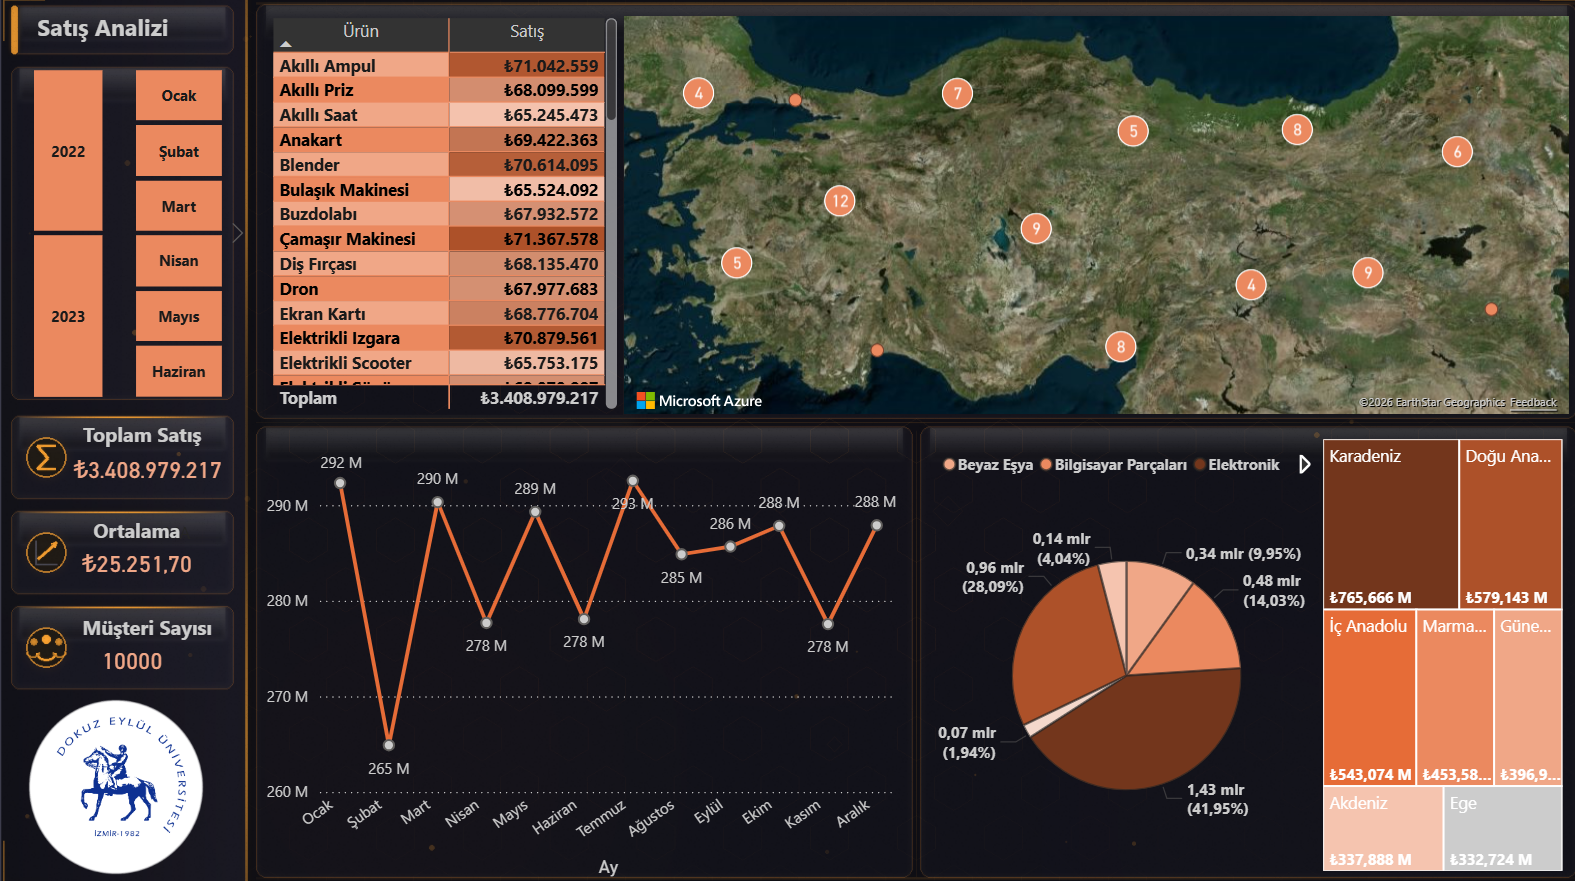

What the dashboard file says about the page in this screenshot:
{"tool":"powerbi","page":{"name":"1. sayfa","canvas":[1280,720],"ordinal":0},"visuals":[{"type":"slicer","fields":{"Values":["Satıs Datası.Tarih.Varyasyon.Tarih Hiyerarşisi.Yıl"]},"box":[7.8,59.3,95.3,266.5],"z":0},{"type":"slicer","fields":{"Values":["Satıs Datası.Tarih.Varyasyon.Tarih Hiyerarşisi.Ay"]},"box":[90.5,59.3,108.9,266.5],"z":1000},{"type":"card","fields":{"Values":["Sum(Satıs Datası.Satıs_tutarı)"]},"box":[36.4,360,169.1,50],"z":2000},{"type":"card","fields":{"Values":["Avg(Satıs Datası.Satıs_tutarı)"]},"box":[50.8,434.6,122.7,50.8],"z":3000},{"type":"card","fields":{"Values":["Count(Satıs Datası.Musteri_numarasi)"]},"box":[46.7,512.5,122.5,50.8],"z":4000},{"type":"tableEx","fields":{"Values":["Satıs Datası.urun","Sum(Satıs Datası.Satıs_tutarı)"]},"box":[216.4,14.6,288.2,325.4],"z":5000},{"type":"pieChart","fields":{"Y":["Sum(Satıs Datası.Satıs_tutarı)"],"Series":["Katagoriler.Kategori"]},"box":[756.4,360,307.3,351.8],"z":6000},{"type":"treemap","fields":{"Group":["Bölgeler.Bolge"],"Values":["Sum(Satıs Datası.Satıs_tutarı)"]},"box":[1063.6,353.6,202.7,358.2],"z":7000},{"type":"textbox","box":[50.9,339.8,130.8,39.5],"z":8000},{"type":"textbox","box":[72,420.2,92.4,29.2],"z":9000},{"type":"textbox","box":[71.9,416.5,97.3,35.8],"z":10000},{"type":"textbox","box":[63,495,126,35],"z":11000},{"type":"image","box":[20,564,150,150],"z":12000},{"type":"textbox","box":[26.8,8.9,161.8,45],"z":13000},{"type":"azureMap","fields":{"Category":["Bölgeler.ıl"]},"box":[504.6,12.7,761.8,326.4],"z":14000},{"type":"lineChart","fields":{"Y":["Sum(Satıs Datası.Satıs_tutarı)"],"Category":["Satıs Datası.Tarih.Varyasyon.Tarih Hiyerarşisi.Ay"]},"box":[216.4,360,508.2,351.8],"z":14001}]}

Visuals, with their boxes in screenshot pixels (x1, y1, x2, y2), scaled from the page's 1280x720 canvas onto the 1575x881 screenshot:
slicer - Satıs Datası.Tarih.Varyasyon.Tarih Hiyerarşisi.Yıl: crop(10, 73, 127, 399)
slicer - Satıs Datası.Tarih.Varyasyon.Tarih Hiyerarşisi.Ay: crop(111, 73, 245, 399)
card - Sum(Satıs Datası.Satıs_tutarı): crop(45, 441, 253, 502)
card - Avg(Satıs Datası.Satıs_tutarı): crop(63, 532, 213, 594)
card - Count(Satıs Datası.Musteri_numarasi): crop(57, 627, 208, 689)
tableEx - Satıs Datası.urun x Sum(Satıs Datası.Satıs_tutarı): crop(266, 18, 621, 416)
pieChart - Sum(Satıs Datası.Satıs_tutarı) x Katagoriler.Kategori: crop(931, 441, 1309, 871)
treemap - Bölgeler.Bolge x Sum(Satıs Datası.Satıs_tutarı): crop(1309, 433, 1558, 871)
textbox: crop(63, 416, 224, 464)
textbox: crop(89, 514, 202, 550)
textbox: crop(88, 510, 208, 553)
textbox: crop(78, 606, 233, 649)
image: crop(25, 690, 209, 874)
textbox: crop(33, 11, 232, 66)
azureMap - Bölgeler.ıl: crop(621, 16, 1558, 415)
lineChart - Sum(Satıs Datası.Satıs_tutarı) x Satıs Datası.Tarih.Varyasyon.Tarih Hiyerarşisi.Ay: crop(266, 441, 892, 871)
